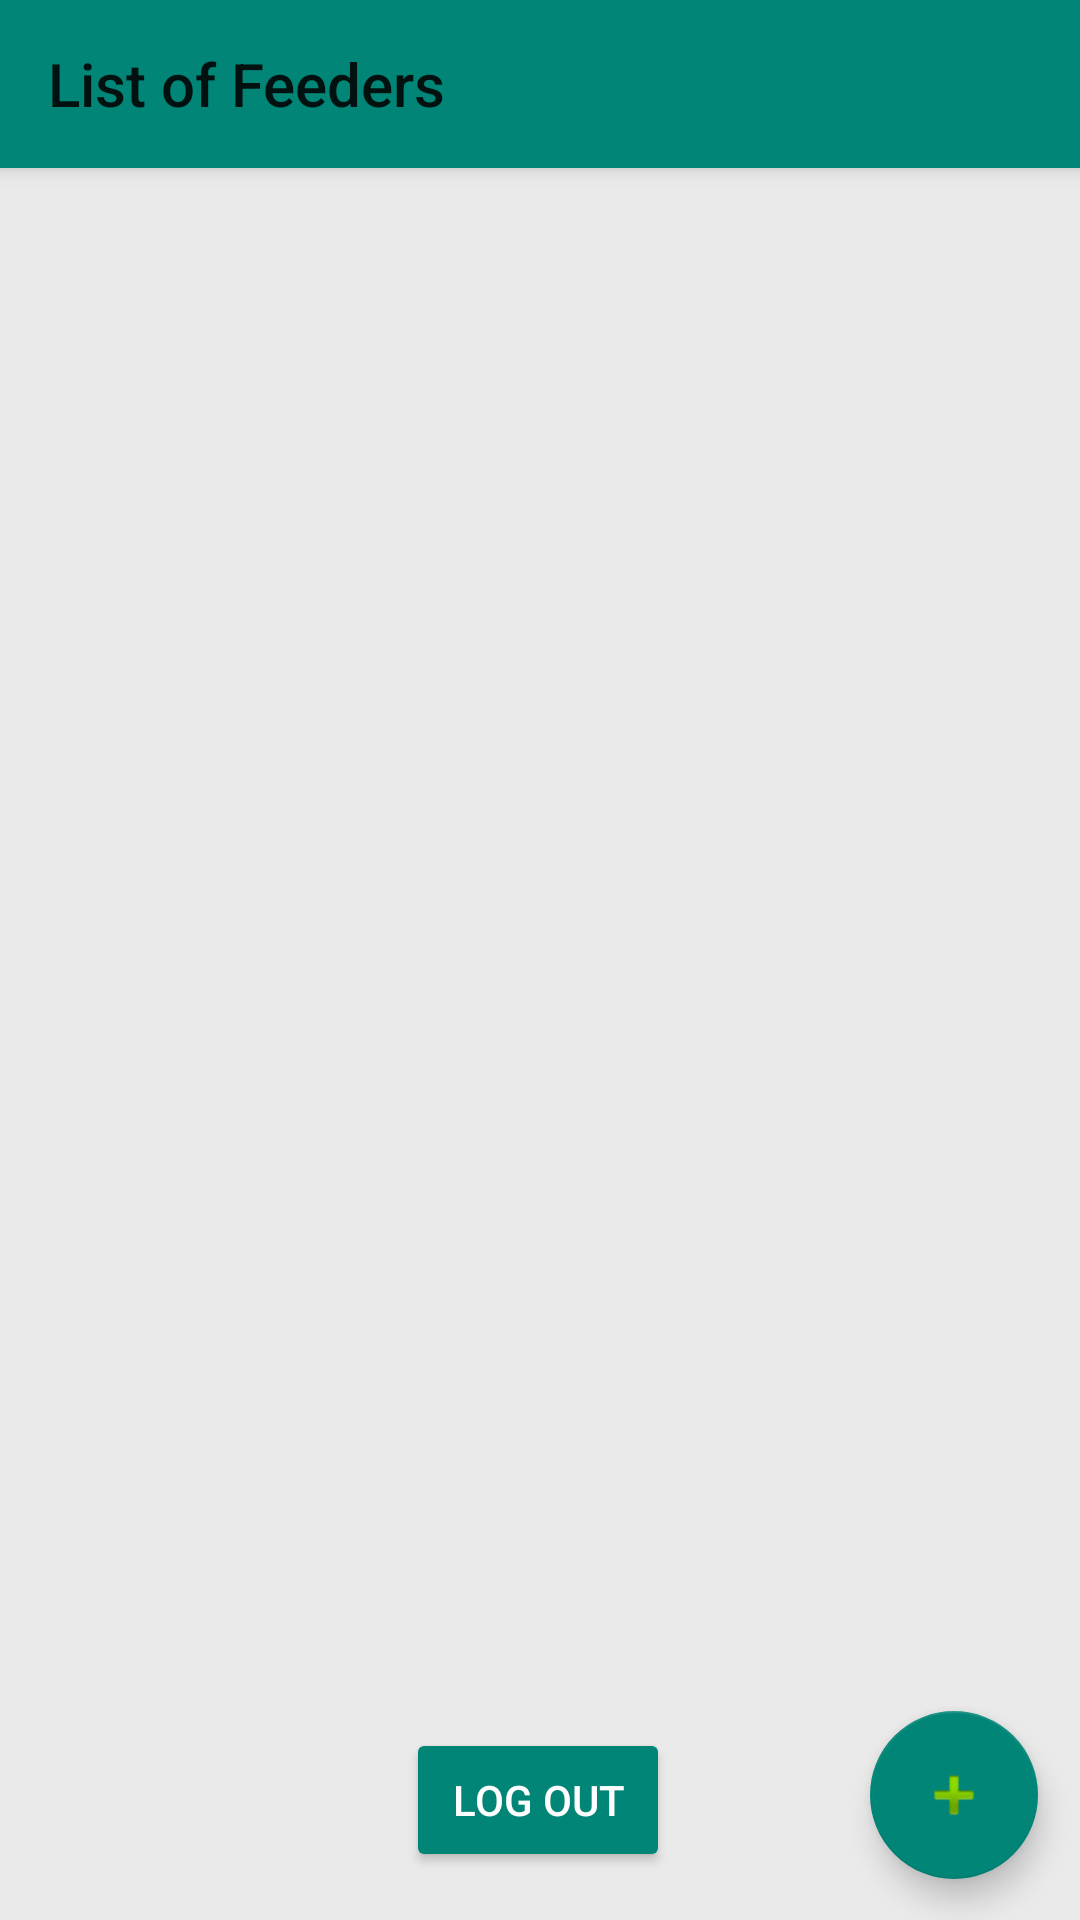

Locate icon controls on the screen. Image size 1080x1920, boxes as (x1, y1, x2, y2).
add: (870, 1711, 1038, 1879)
